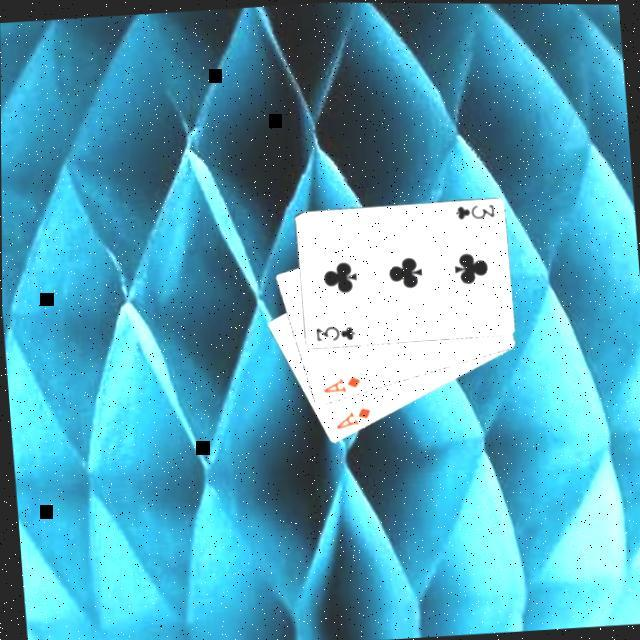3C: (312, 321, 358, 346), (452, 200, 496, 223)
AD: (331, 404, 375, 433), (318, 372, 364, 398)
